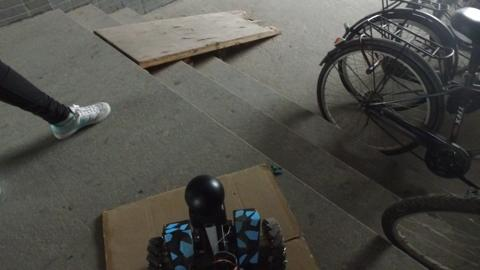bike: (317, 1, 479, 171)
chariot: (147, 176, 288, 269)
